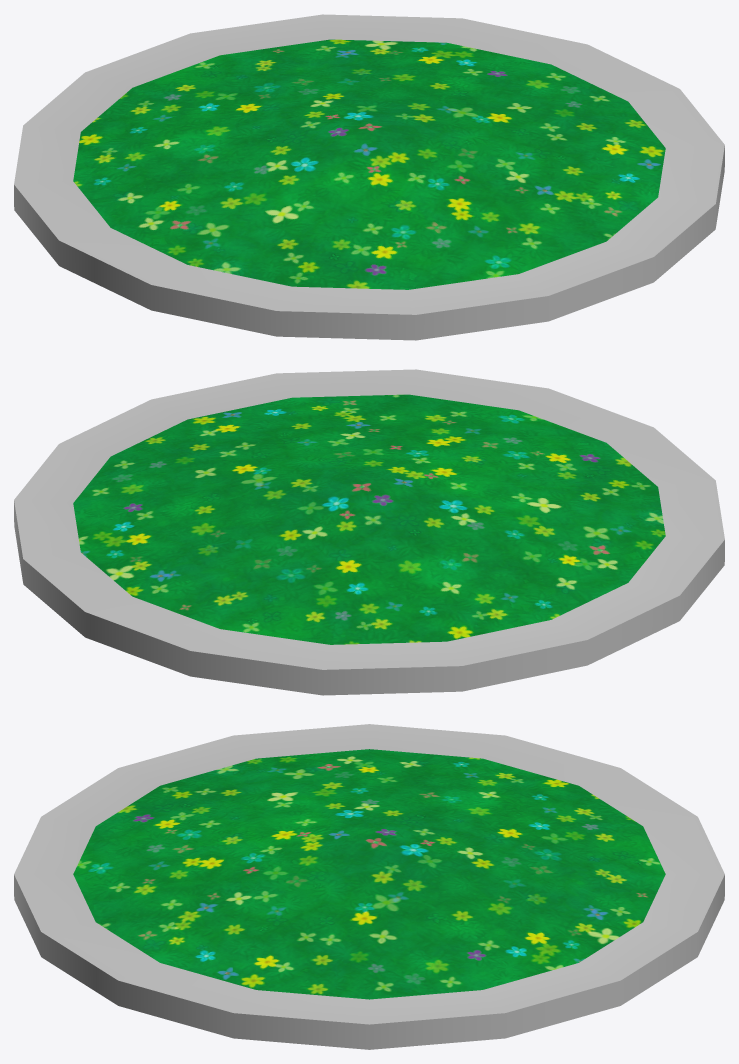
Rendered from Plant02_b06.FBX.
3 renders of one model, top to bottom at view 1: azimuth 30°, elevation 25°; view 2: azimuth 150°, elevation 25°; view 3: azimuth 270°, elevation 25°, orthographic.
Visible parts, largest first — view 1: Plant02_b06; view 2: Plant02_b06; view 3: Plant02_b06.
Boxes of the visible parts, <box> form: Plant02_b06: <box>14,14,724,340</box>; Plant02_b06: <box>14,369,724,695</box>; Plant02_b06: <box>14,724,724,1049</box>.
Bounding box in the file's own units: 679 × 63.53 × 679.
